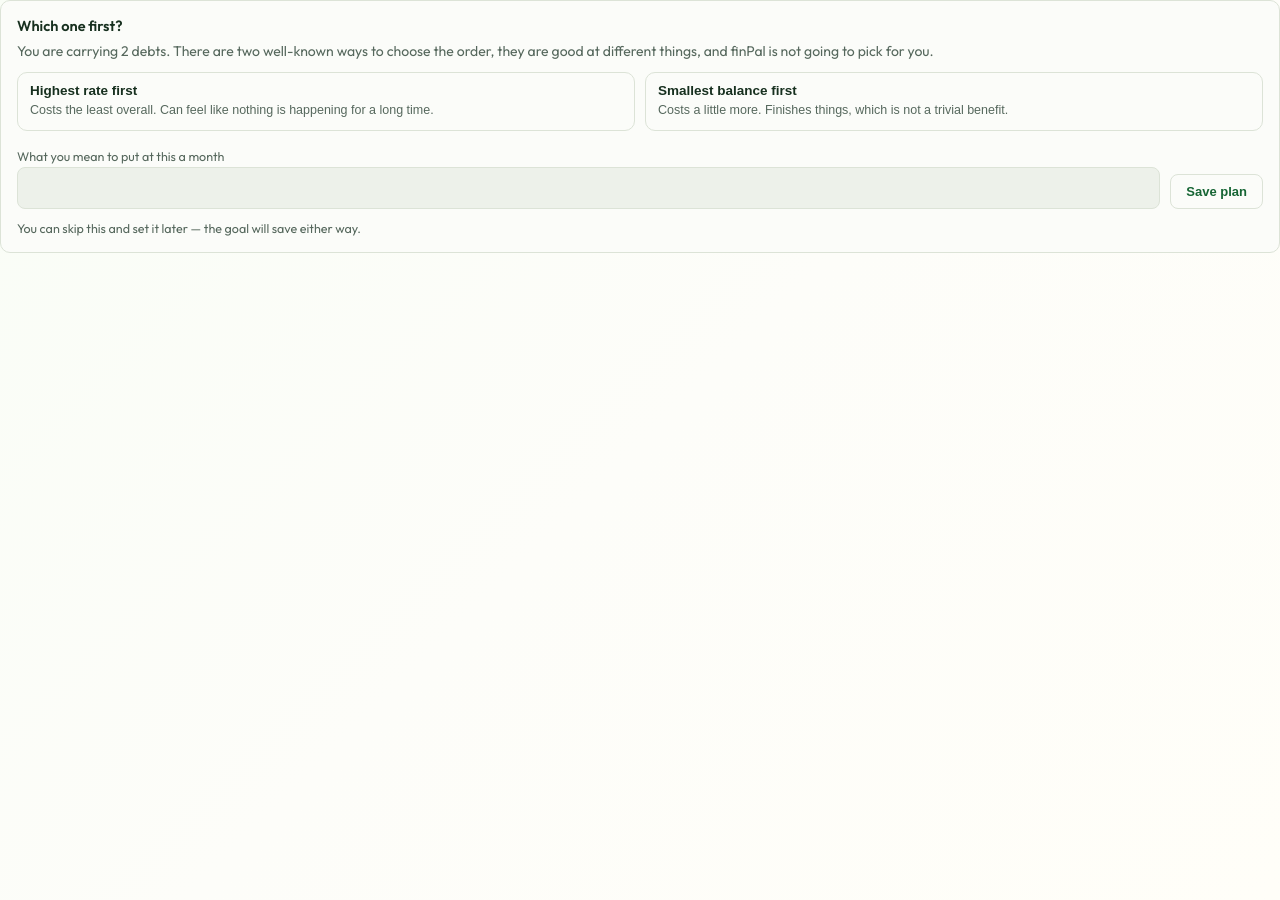
Scenario: writing a plan › shows the order the WRITE did not return, by re-reading
The width and height of the screenshot is (1280, 900).
Click the radio button with test id "debt-method-avalanche".
click(326, 102)  # box left=17, top=72, right=635, bottom=131
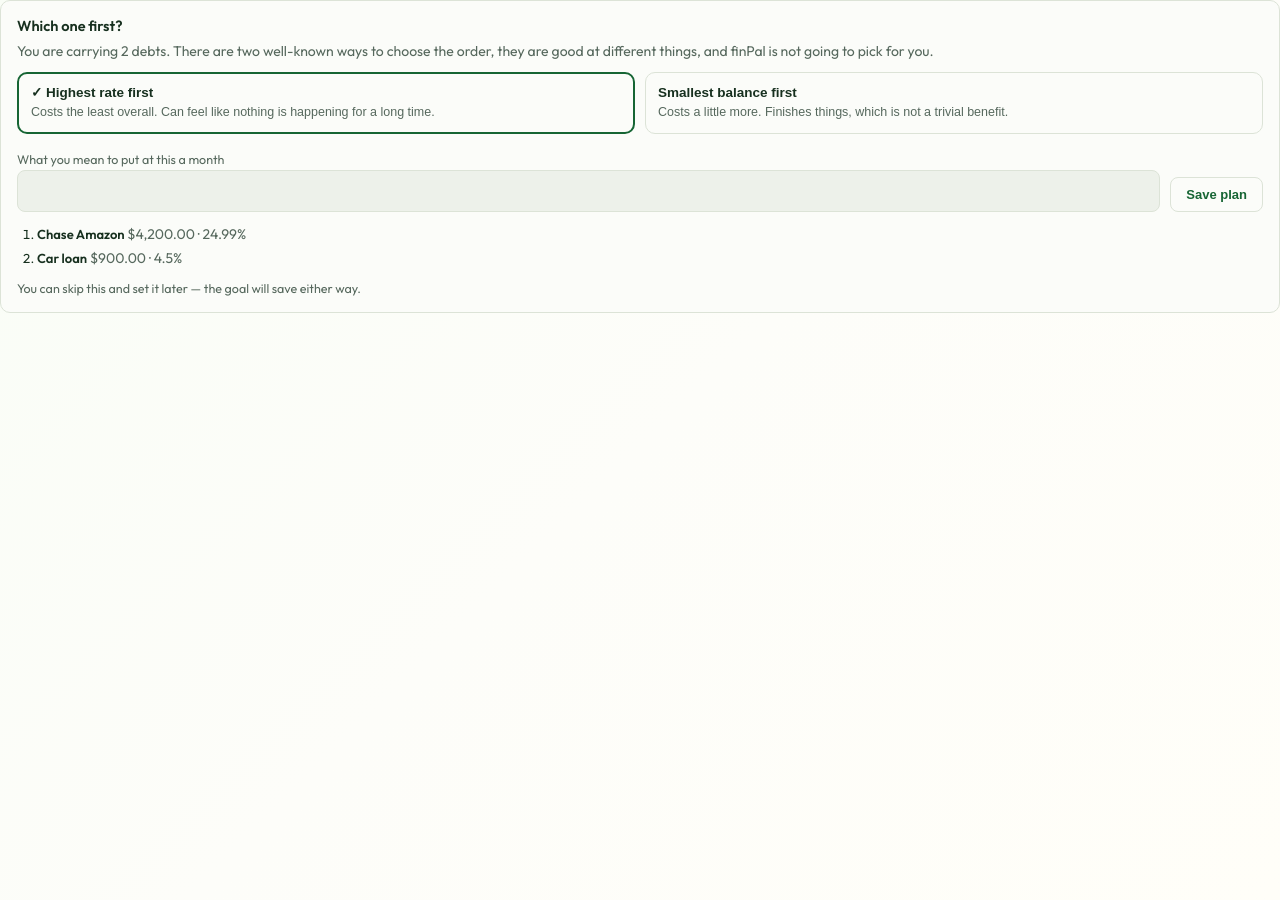
Expected: the list item "Chase Amazon $4,200.00 · 24.99%" is shown, left=37, top=225, right=246, bottom=243
